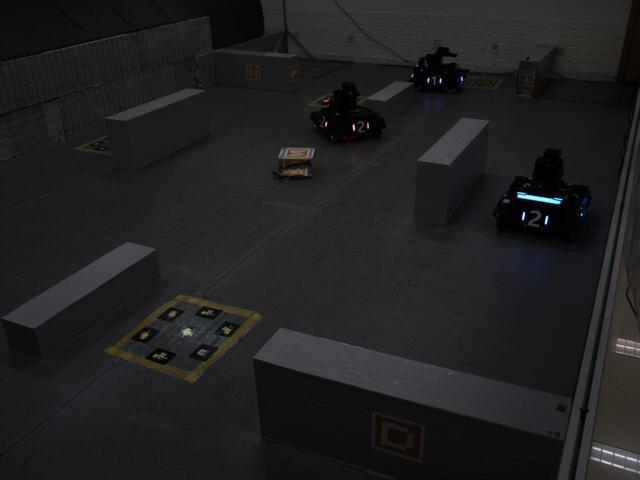armor: (515, 205, 552, 232), (348, 118, 373, 138), (425, 72, 445, 89)
